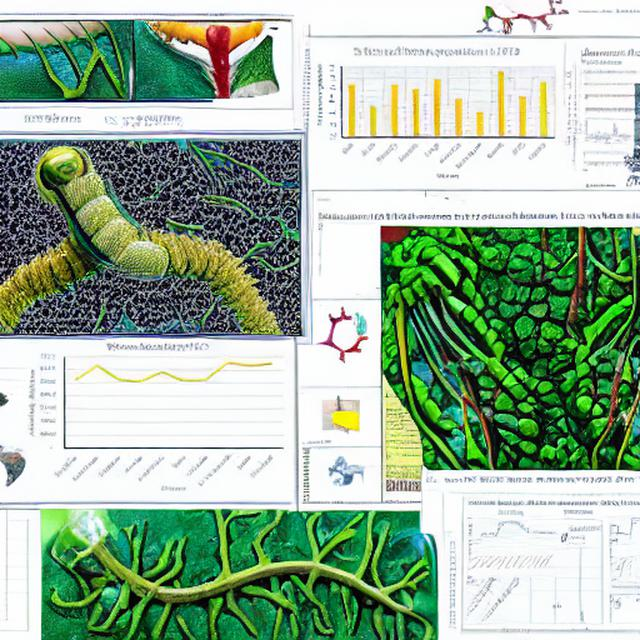Graph: (28, 341, 285, 494), (311, 39, 562, 187), (465, 511, 558, 567), (576, 115, 632, 148)
